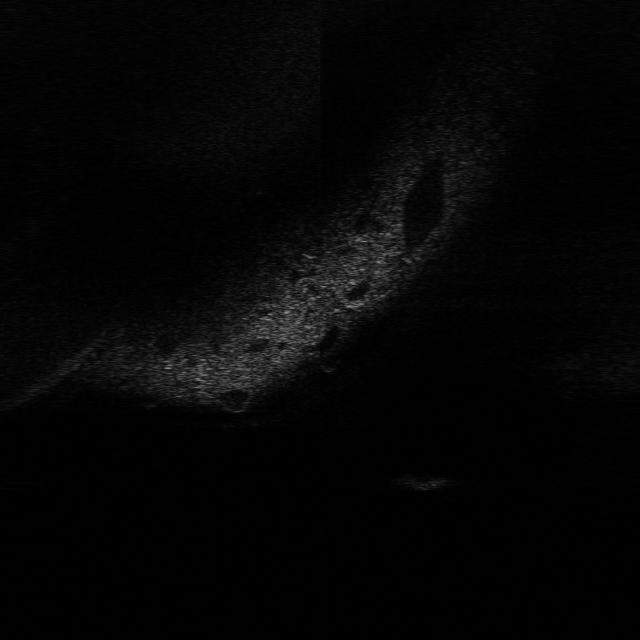ball: (314, 350, 344, 374)
cube: (391, 470, 457, 494)
